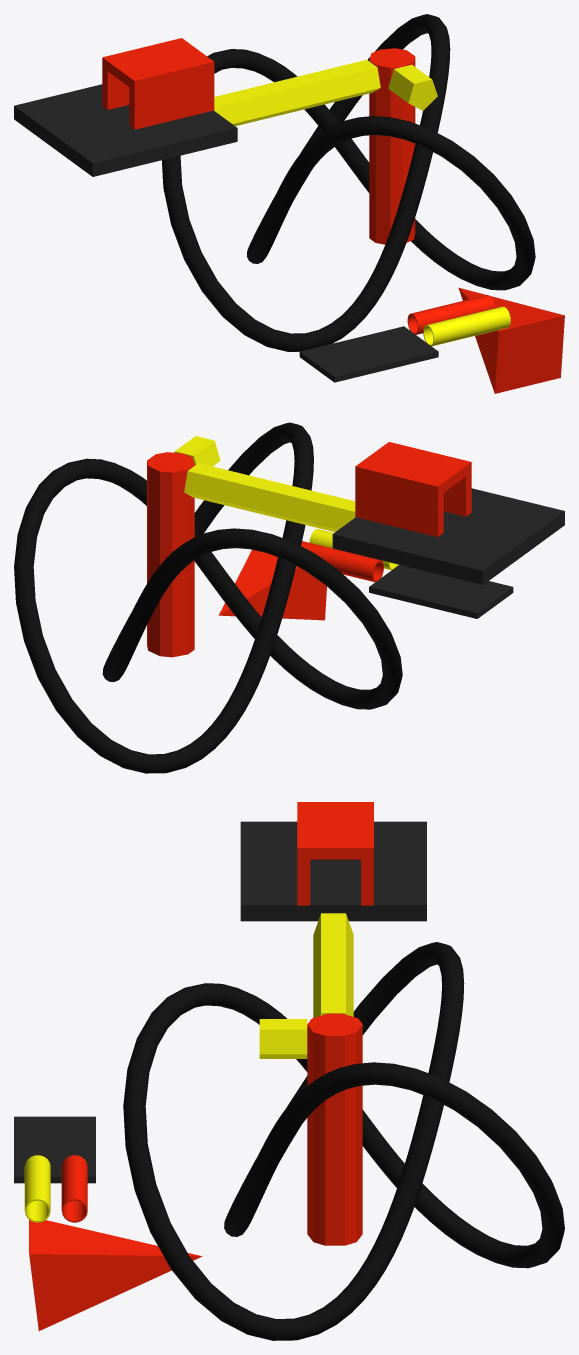
The model's file is FinalLevel1.FBX.
3 views of the same model, one above another, from view 1: azimuth 30°, elevation 25°; view 2: azimuth 150°, elevation 25°; view 3: azimuth 270°, elevation 25° (orthographic). The views are drawn at different scales.
Parts seen in each view (by area): view 1: Torus Knot001, Box002, C-Ext001, Pyramid001, Gengon001, Gengon003, Box001, Tube002, Gengon002, Tube001; view 2: Torus Knot001, Box002, C-Ext001, Gengon001, Gengon003, Box001, Pyramid001, Tube001, Gengon002, Tube002; view 3: Torus Knot001, Box002, Gengon001, Pyramid001, C-Ext001, Box001, Gengon003, Gengon002, Tube001, Tube002.
Part boxes in pixels (box(x1,y1,x2,y2)): Torus Knot001: box(162, 14, 535, 351); Box002: box(14, 84, 237, 176); C-Ext001: box(102, 38, 214, 129); Pyramid001: box(458, 287, 564, 393); Gengon001: box(369, 48, 415, 244); Gengon003: box(214, 59, 380, 126); Box001: box(299, 326, 438, 382); Tube002: box(423, 306, 510, 346); Gengon002: box(388, 64, 437, 110); Tube001: box(407, 295, 494, 334); Torus Knot001: box(14, 422, 402, 773); Box002: box(332, 488, 564, 584); C-Ext001: box(355, 442, 471, 536); Gengon001: box(147, 452, 194, 657); Gengon003: box(184, 463, 355, 531); Box001: box(369, 565, 513, 618); Pyramid001: box(218, 549, 326, 620); Tube001: box(301, 541, 383, 582); Gengon002: box(174, 436, 220, 466); Tube002: box(309, 529, 397, 570); Torus Knot001: box(123, 942, 564, 1340); Box002: box(240, 821, 426, 921); Gengon001: box(307, 1013, 362, 1245); Pyramid001: box(29, 1220, 202, 1330); C-Ext001: box(297, 802, 373, 905); Box001: box(14, 1116, 95, 1183); Gengon003: box(313, 913, 353, 1017); Gengon002: box(259, 1019, 307, 1058); Tube001: box(61, 1155, 87, 1222); Tube002: box(24, 1155, 50, 1222).
Bounding box in the file's own units: 242 × 160 × 231.
